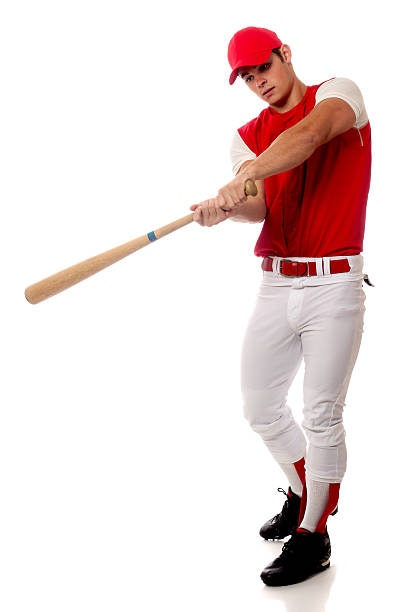bita: (24, 177, 274, 303)
